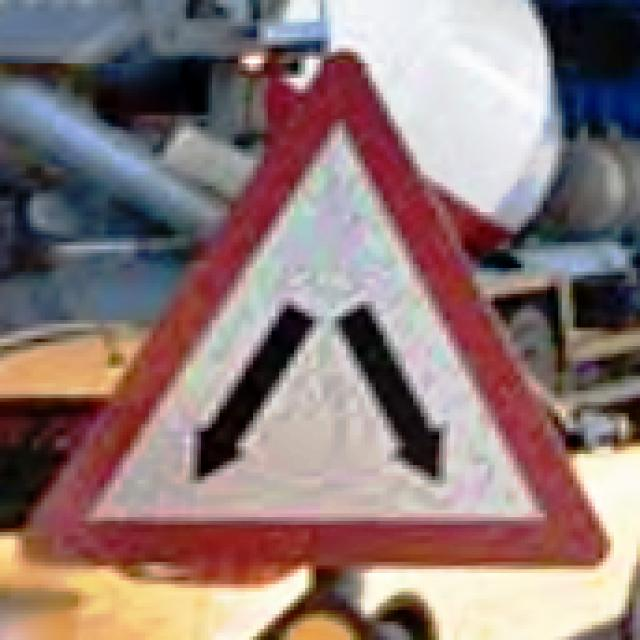diverge: (22, 52, 610, 569)
